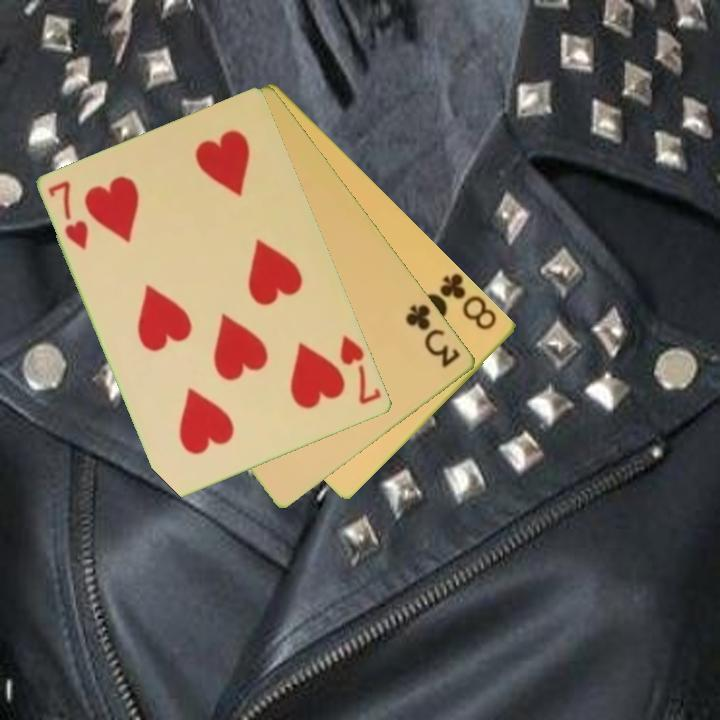3c: (402, 300, 464, 371)
7h: (336, 331, 385, 408), (45, 177, 92, 253)
8c: (431, 269, 500, 333)
